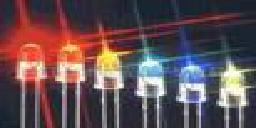LED: (90, 43, 127, 128), (12, 41, 49, 125), (55, 39, 87, 128), (177, 62, 216, 128), (137, 57, 173, 125), (218, 66, 250, 128)
